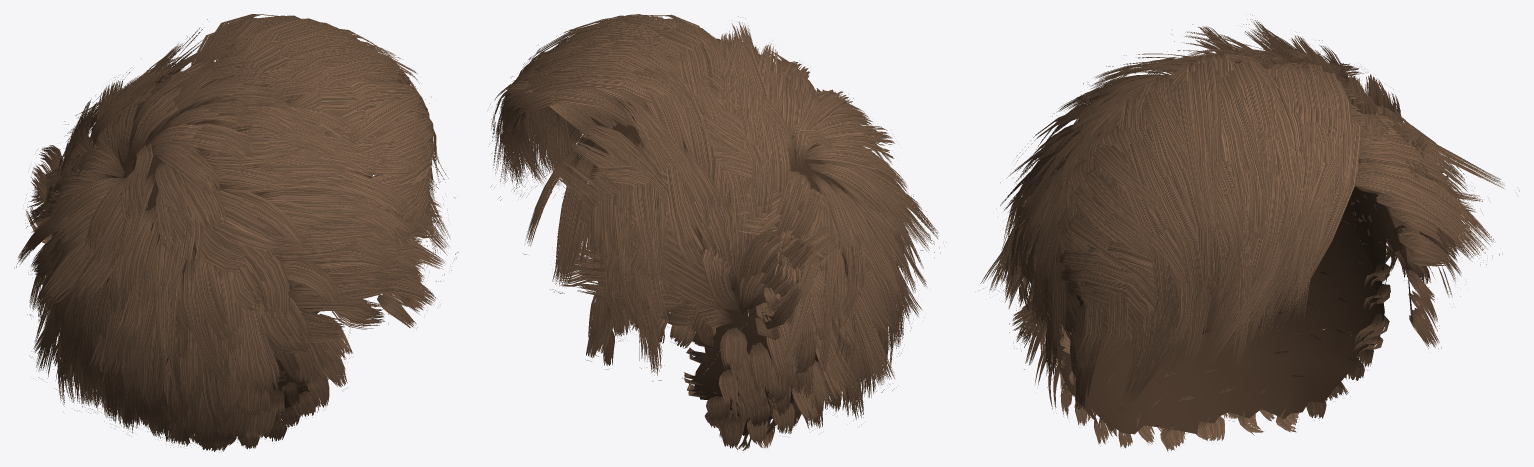
The model's file is hair-female-pixie.glb.
The picture shows the model from 3 angles, left to right: view 1: azimuth 30°, elevation 25°; view 2: azimuth 150°, elevation 25°; view 3: azimuth 270°, elevation 25°; orthographic projection. The views are drawn at different scales.
Parts seen in each view (by area): view 1: Hair_pixie_cards, Hair_pixie_cap; view 2: Hair_pixie_cards, Hair_pixie_cap; view 3: Hair_pixie_cards, Hair_pixie_cap.
Boxes of the visible parts, x1,y1,x2,y2 form: Hair_pixie_cards: [14, 14, 458, 451]; Hair_pixie_cap: [105, 100, 372, 436]; Hair_pixie_cards: [489, 14, 940, 450]; Hair_pixie_cap: [583, 86, 867, 435]; Hair_pixie_cards: [979, 14, 1519, 451]; Hair_pixie_cap: [1048, 159, 1412, 434].
Size of the model in its own units: 0.25 by 0.2262 by 0.2513.
2 materials, 1 textured.
